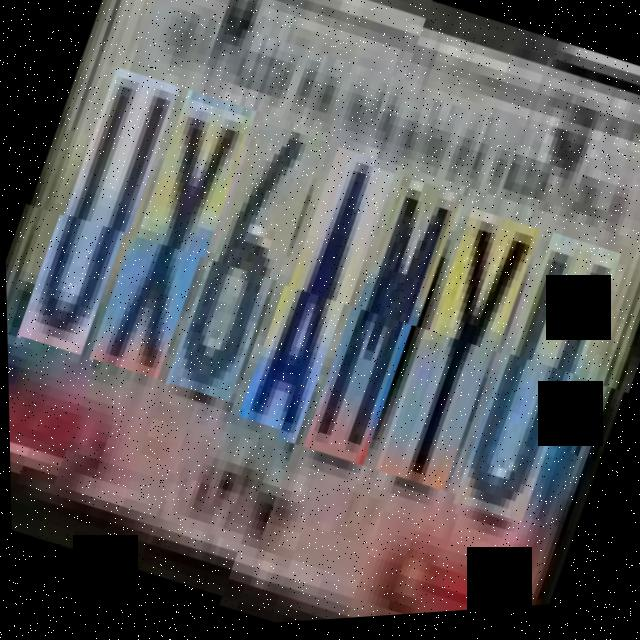6: (159, 123, 329, 421)
A: (233, 157, 398, 452)
M: (301, 180, 466, 475)
U: (450, 237, 624, 537), (11, 74, 182, 372)
X: (83, 97, 257, 397)
Y: (372, 211, 543, 502)
